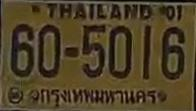0: (108, 25, 131, 78), (38, 24, 60, 77)
1: (142, 24, 150, 78)
5: (82, 24, 105, 77)
6: (161, 26, 184, 79), (10, 23, 33, 76)
BKK: (38, 84, 158, 110)
